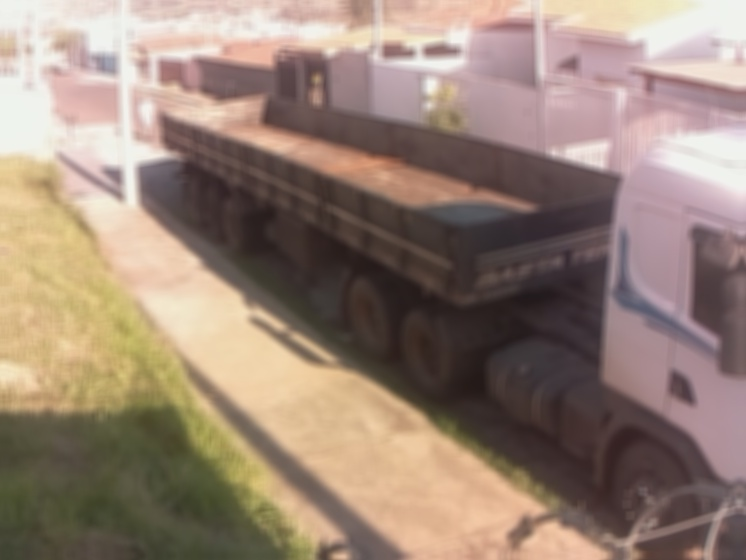person: (135, 91, 162, 143)
